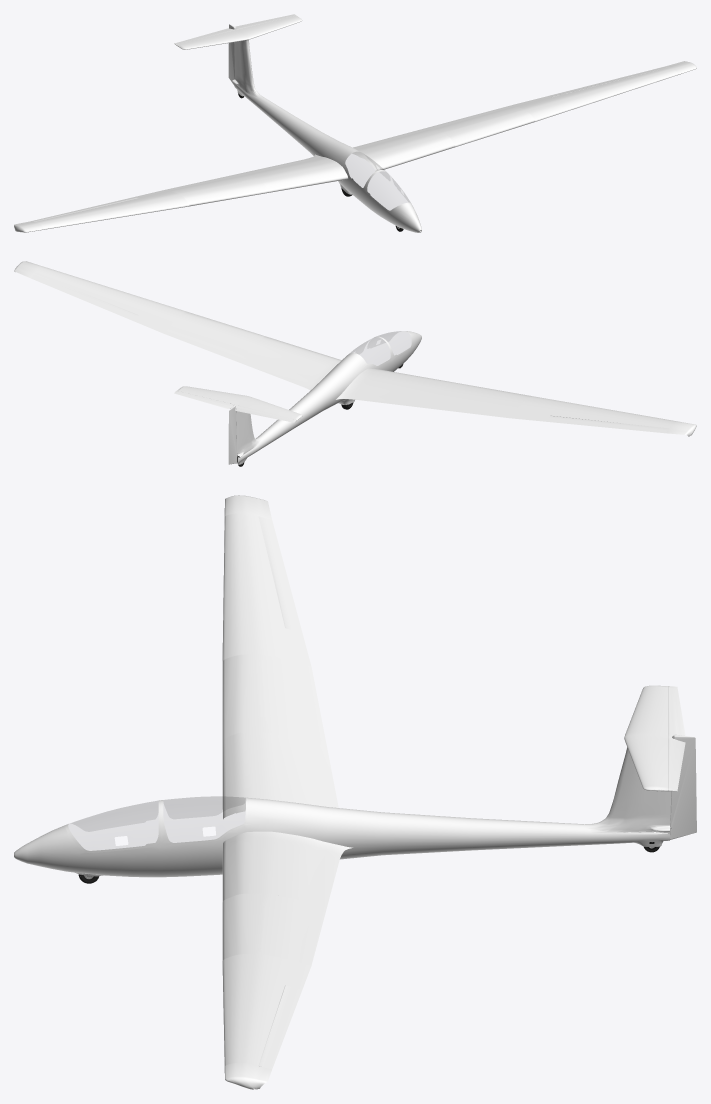
Rendered from custom1.gltf.
3 renders of one model, top to bottom at view 1: azimuth 30°, elevation 25°; view 2: azimuth 150°, elevation 25°; view 3: azimuth 270°, elevation 25°, orthographic. The views are drawn at different scales.
Visible parts, largest first — view 1: Exterior; view 2: Exterior; view 3: Exterior.
Boxes of the visible parts, <box> form: Exterior: <box>14,14,696,232</box>; Exterior: <box>14,261,696,466</box>; Exterior: <box>14,495,696,1089</box>.
Size of the model in its own units: 16.92 by 2.06 by 8.34.
4 materials, 3 textured.
